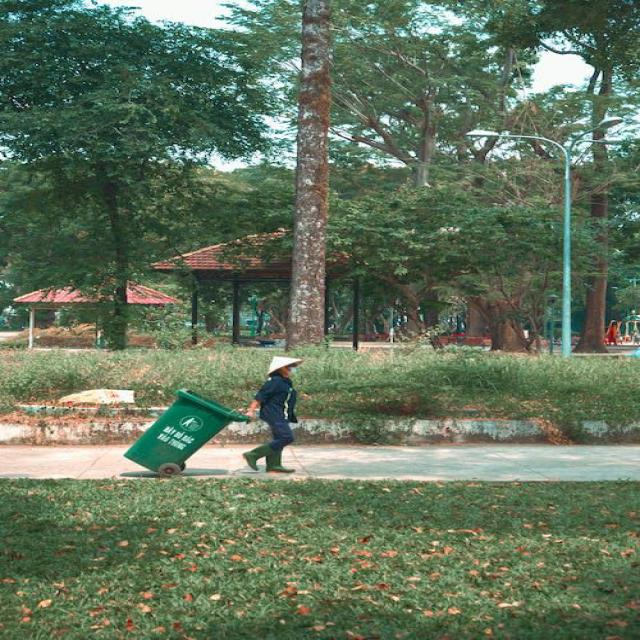metal: (141, 388, 192, 458)
